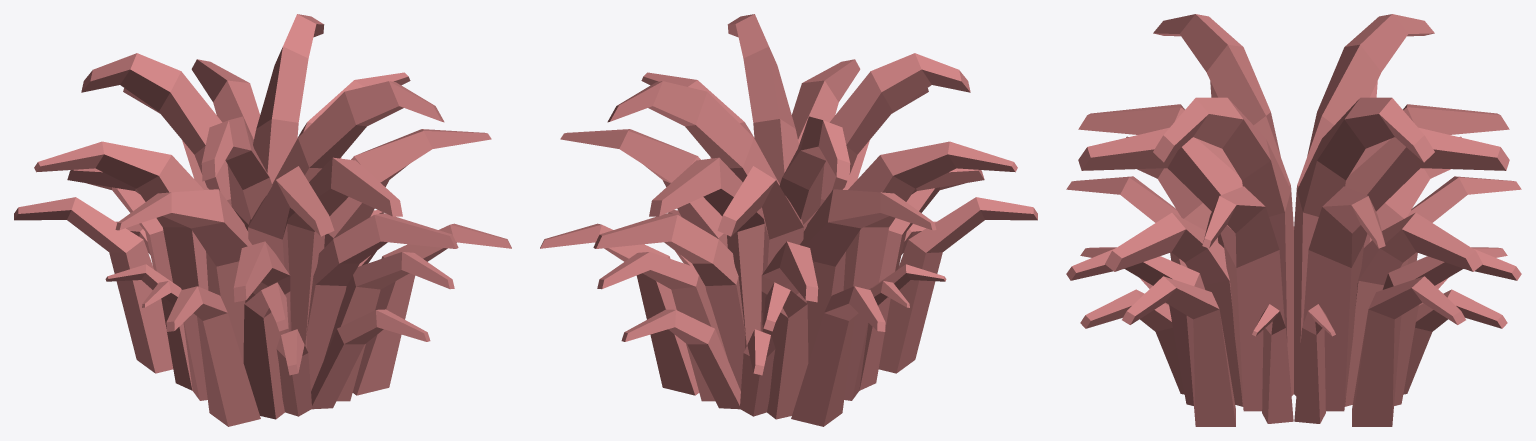
File: CHAHIN_ANEMONE.gltf
3 views of the same model, side by side, from view 1: azimuth 30°, elevation 25°; view 2: azimuth 150°, elevation 25°; view 3: azimuth 270°, elevation 25° (orthographic). The views are drawn at different scales.
Visible parts, largest first — view 1: node-0; view 2: node-0; view 3: node-0.
Part boxes in pixels (x1,y1,x2,y2): node-0: [14, 14, 511, 426]; node-0: [540, 14, 1037, 426]; node-0: [1066, 14, 1521, 426].
Size of the model in its own units: 2.46 by 1.92 by 2.42.
Materials: 1 (1 with a texture image).
